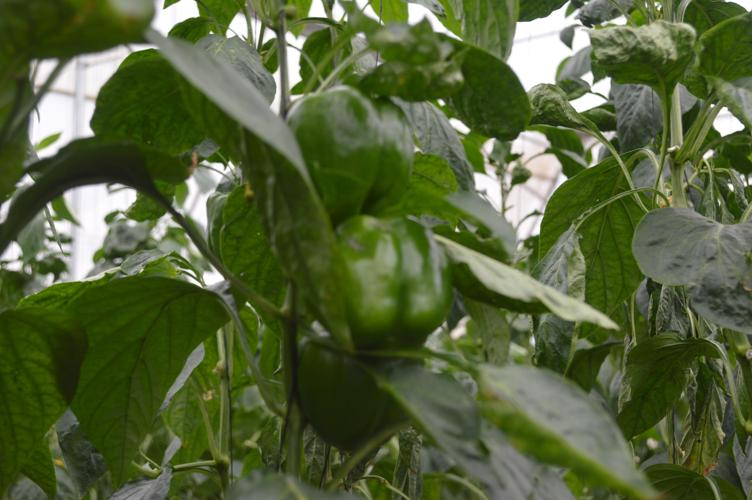BellPepper: (315, 213, 470, 348), (268, 85, 420, 218), (290, 335, 418, 461)
